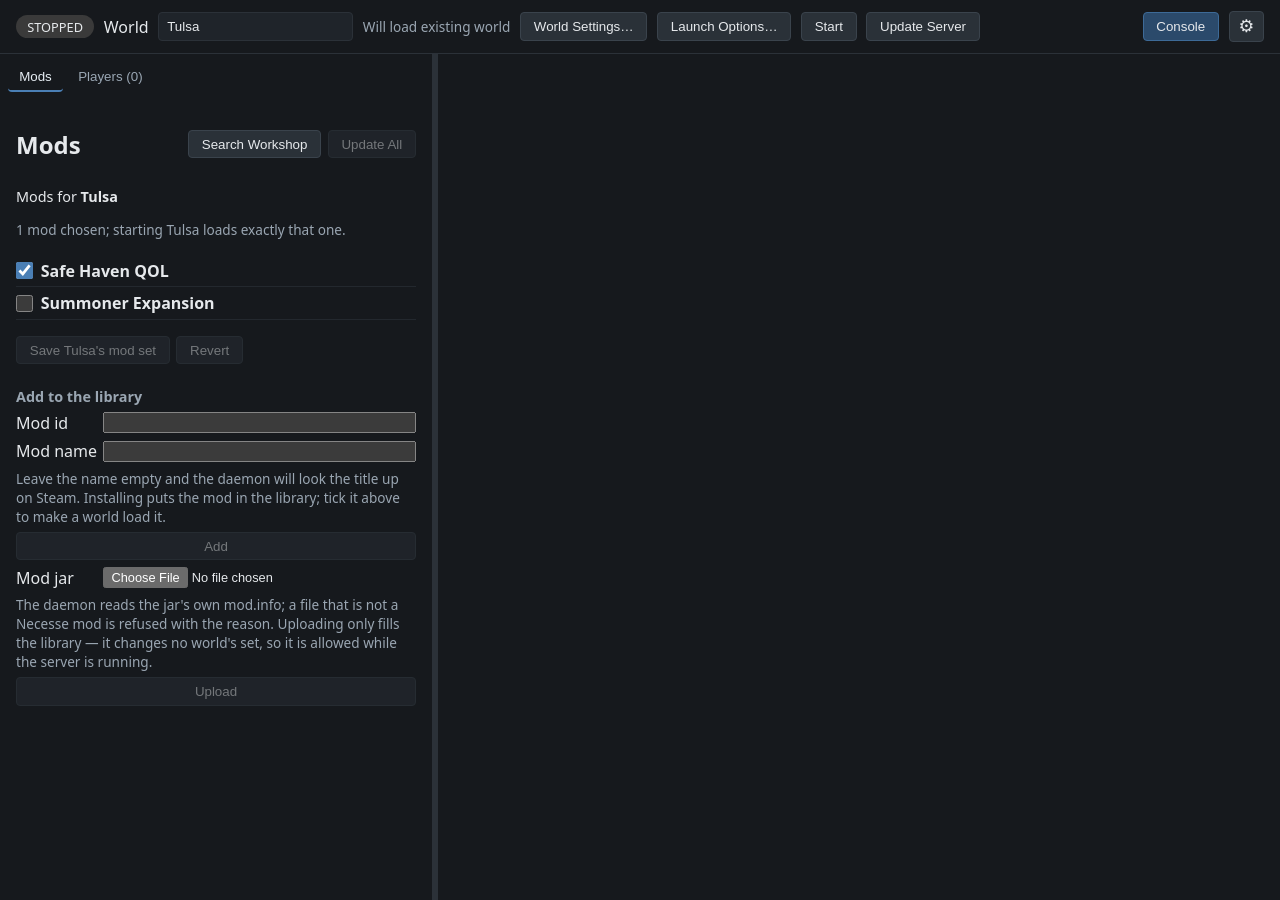
Test case: App console toggle › keeps the mods panel's unsaved state across the toggle, rather than remounting it
Expected: the button "Update Server" is shown, [866,12,980,41]
Click the checkbox labelled "Safe Haven QOL": [24, 270] box [16,262,33,279]
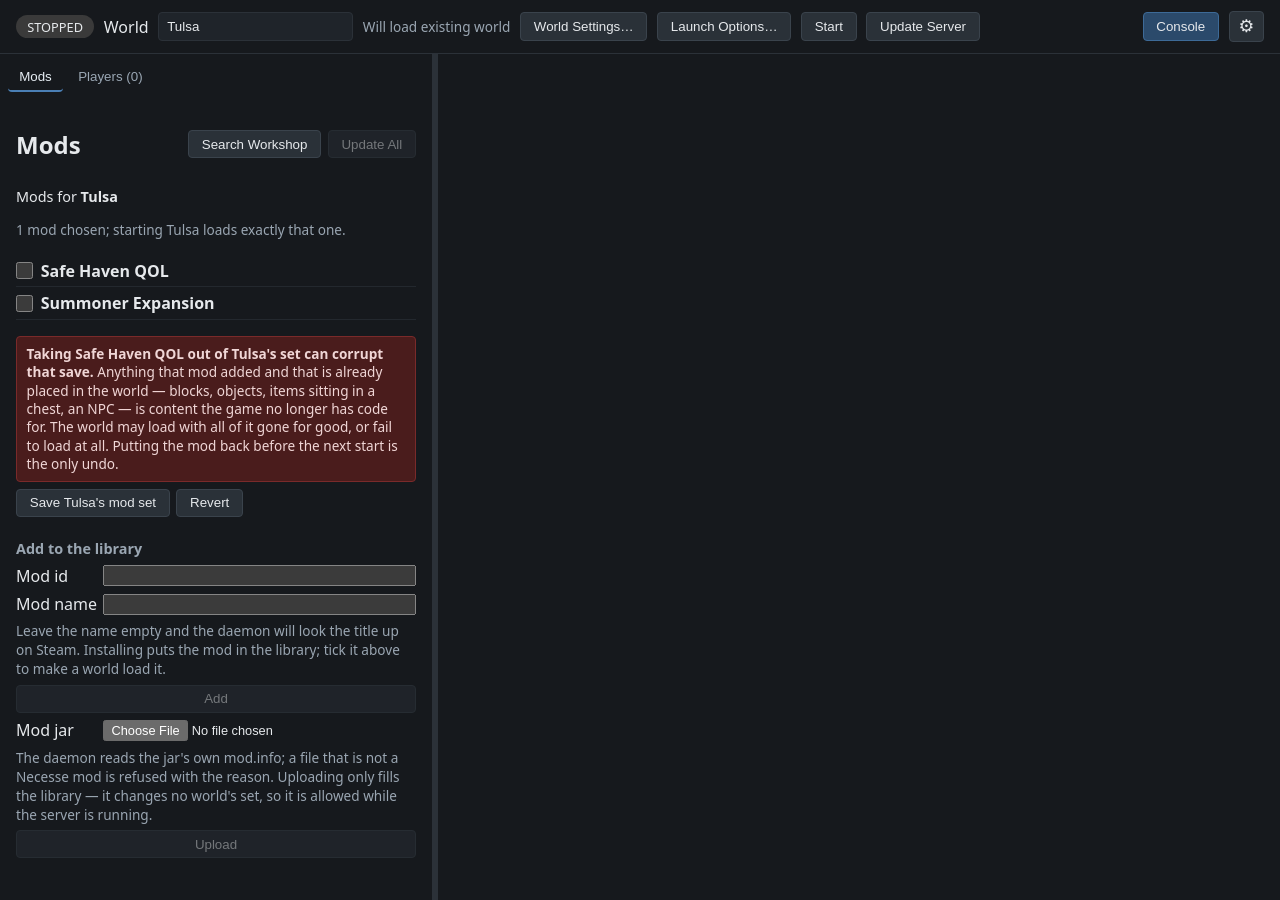
Expected: the checkbox labelled "Safe Haven QOL" is not checked, [16,262,33,279]
Click the button "Console": [1181, 27] box [1142,12,1219,41]
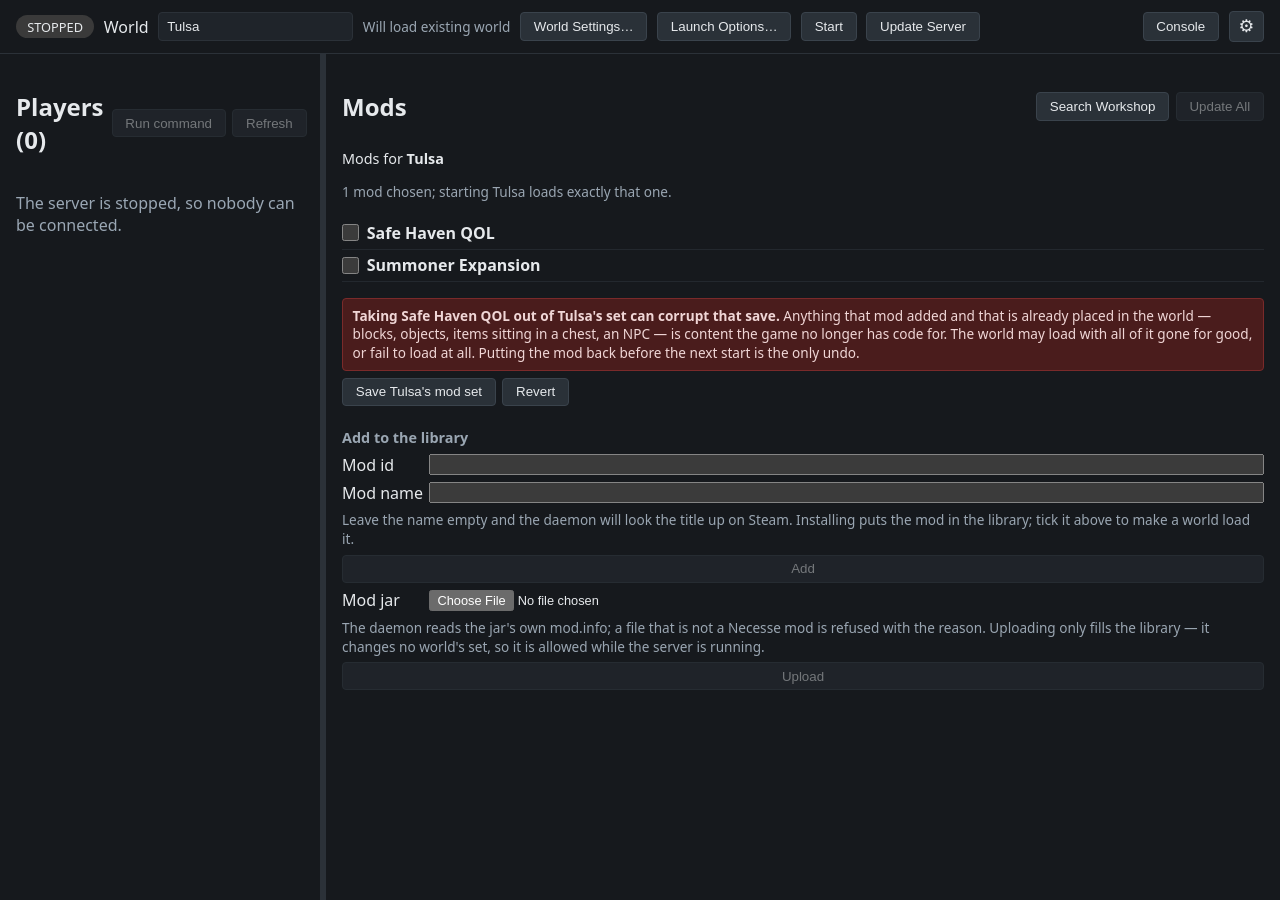
Expected: the heading "Mods" is shown, [342,90,407,123]
Expected: the checkbox labelled "Safe Haven QOL" is not checked, [342,224,359,241]
Expected: the tab is gone
